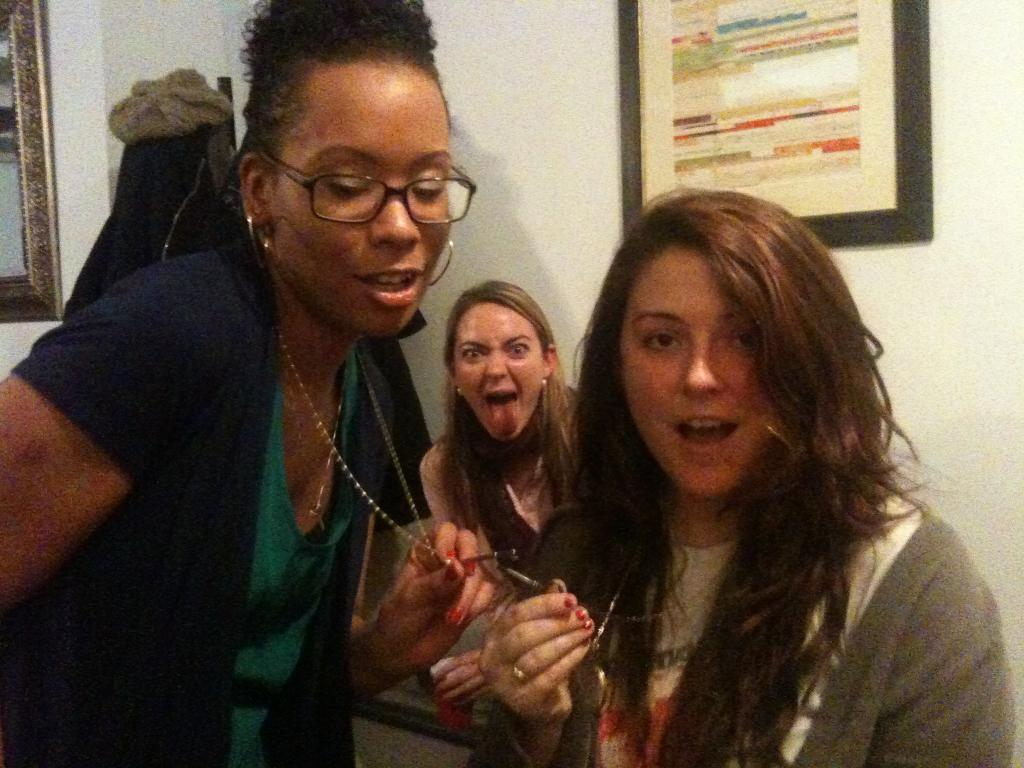Sem Máscara: (274, 69, 473, 334), (617, 254, 778, 496), (451, 303, 542, 441)
